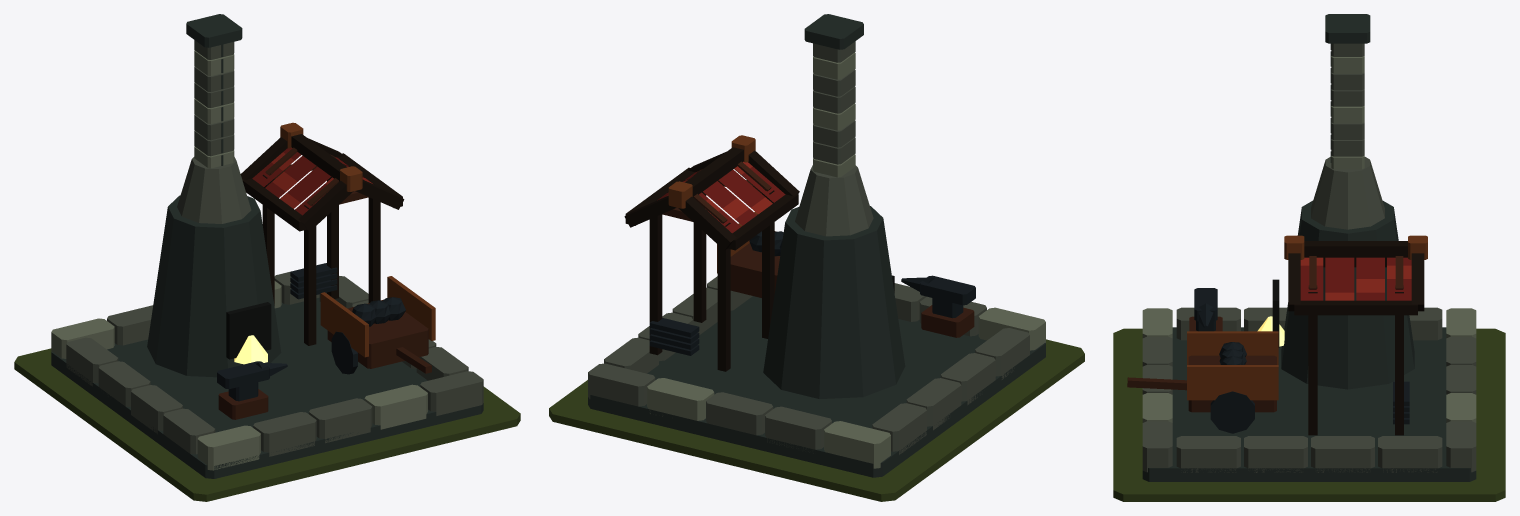
Rendered from smeltery_t4.glb.
3 views of the same model, side by side, from view 1: azimuth 30°, elevation 25°; view 2: azimuth 150°, elevation 25°; view 3: azimuth 270°, elevation 25° (orthographic). The views are drawn at different scales.
Parts seen in each view (by area): view 1: MMR | smeltery | T04 Architecture.001, MMR | smeltery | Tier 04 Ground.001; view 2: MMR | smeltery | T04 Architecture.001, MMR | smeltery | Tier 04 Ground.001; view 3: MMR | smeltery | T04 Architecture.001, MMR | smeltery | Tier 04 Ground.001.
Part boxes in pixels (bbox=[...]): MMR | smeltery | T04 Architecture.001: bbox=[51, 14, 483, 478]; MMR | smeltery | Tier 04 Ground.001: bbox=[14, 348, 520, 501]; MMR | smeltery | T04 Architecture.001: bbox=[588, 14, 1045, 477]; MMR | smeltery | Tier 04 Ground.001: bbox=[549, 339, 1084, 501]; MMR | smeltery | T04 Architecture.001: bbox=[1127, 14, 1476, 481]; MMR | smeltery | Tier 04 Ground.001: bbox=[1113, 328, 1505, 501].
Bounding box in the file's own units: 2.35 × 2.5 × 2.35.
2 materials, 1 textured.
